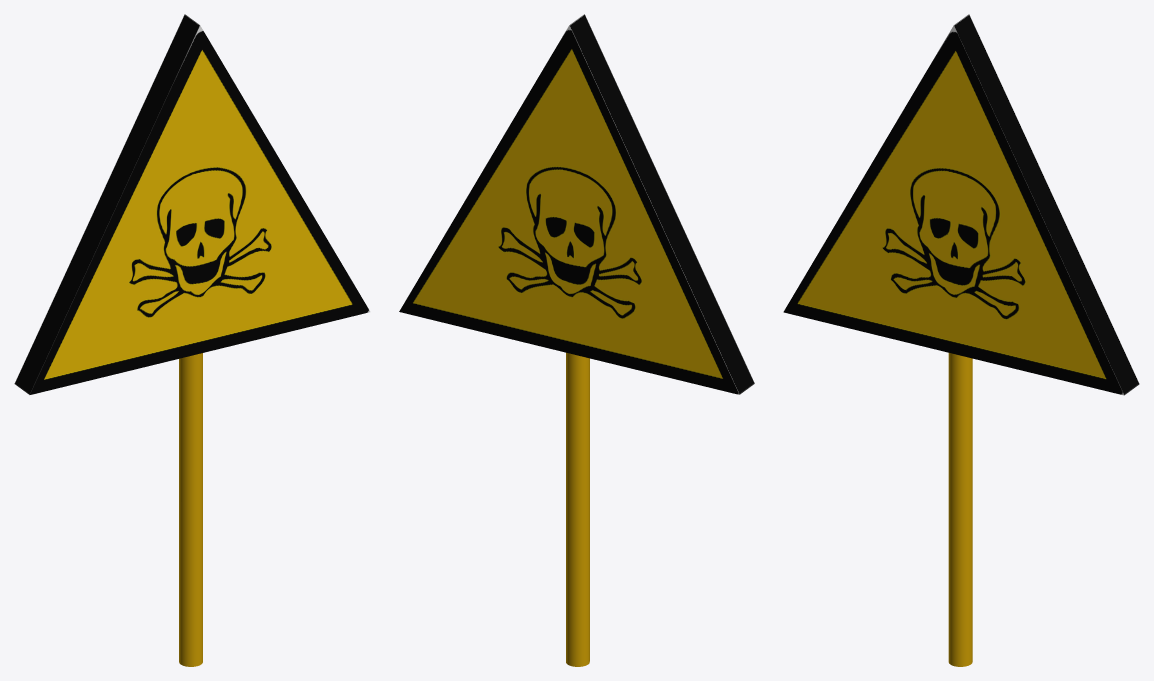
The model's file is Morte.fbx.
The picture shows the model from 3 angles, left to right: view 1: azimuth 30°, elevation 25°; view 2: azimuth 150°, elevation 25°; view 3: azimuth 330°, elevation 25°; orthographic projection.
Visible parts, largest first — view 1: polySurface4; view 2: polySurface4; view 3: polySurface4.
Part boxes in pixels (x1,y1,x2,y2): polySurface4: (14, 14, 370, 666); polySurface4: (399, 14, 754, 666); polySurface4: (783, 14, 1139, 666).
Bounding box in the file's own units: 9.1 × 16.39 × 0.7121.
2 materials, 1 textured.
